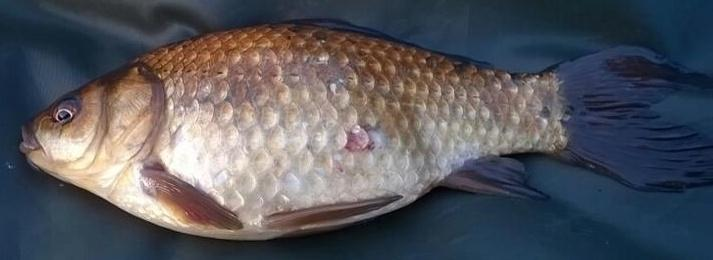Grass Carp: (23, 15, 675, 248)
